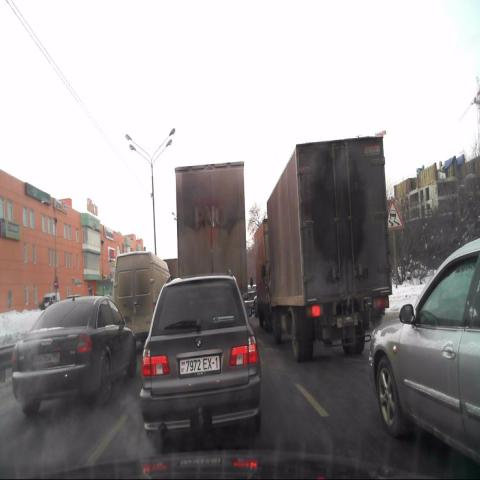1_15: (384, 199, 404, 230)
